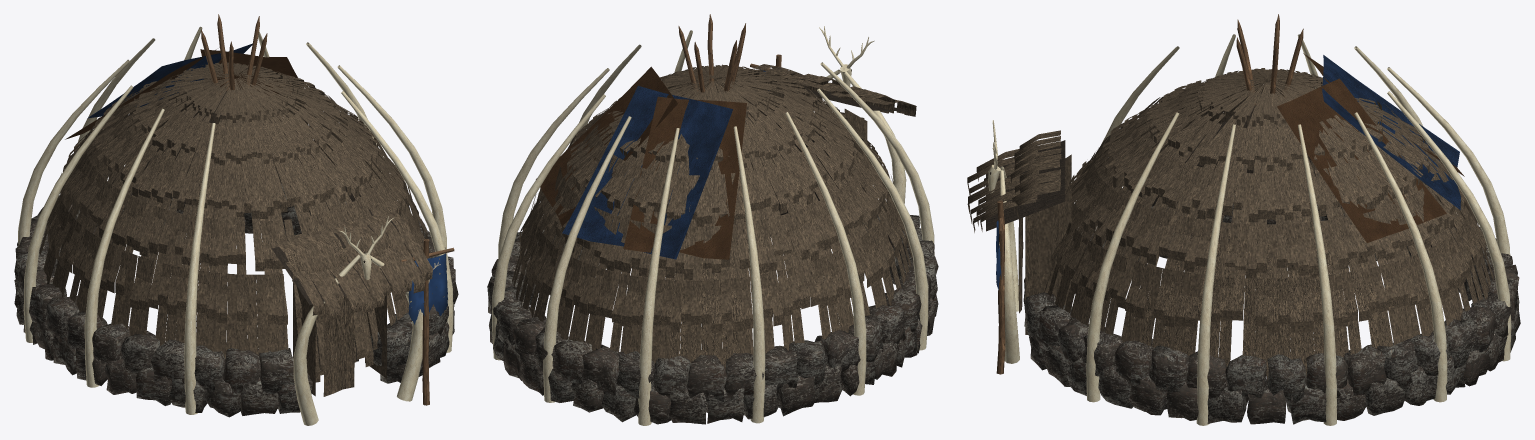
Rendered from SM_Bld_North_House.gltf.
3 renders of one model, left to right at view 1: azimuth 30°, elevation 25°; view 2: azimuth 150°, elevation 25°; view 3: azimuth 270°, elevation 25°, orthographic. The views are drawn at different scales.
Parts seen in each view (by area): view 1: SM_Bld_North_House; view 2: SM_Bld_North_House; view 3: SM_Bld_North_House.
Boxes of the visible parts, left/top/right/bottom form: SM_Bld_North_House: left=14, top=14, right=458, bottom=425; SM_Bld_North_House: left=487, top=14, right=938, bottom=425; SM_Bld_North_House: left=967, top=14, right=1520, bottom=425.
Size of the model in its own units: 6.74 by 5.2 by 8.36.
9 materials, 8 textured.
